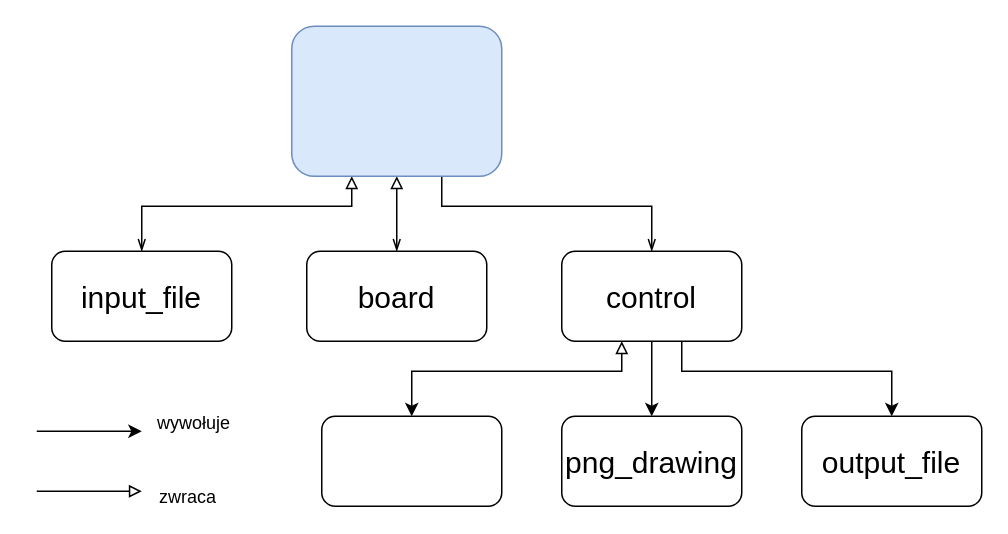
Image size: 1008x534. Some labels were removed from this diagram. The centre of each missing label's shape, as x and y in pixels:
"main" goes at point (396, 100).
"movement" goes at point (411, 460).
